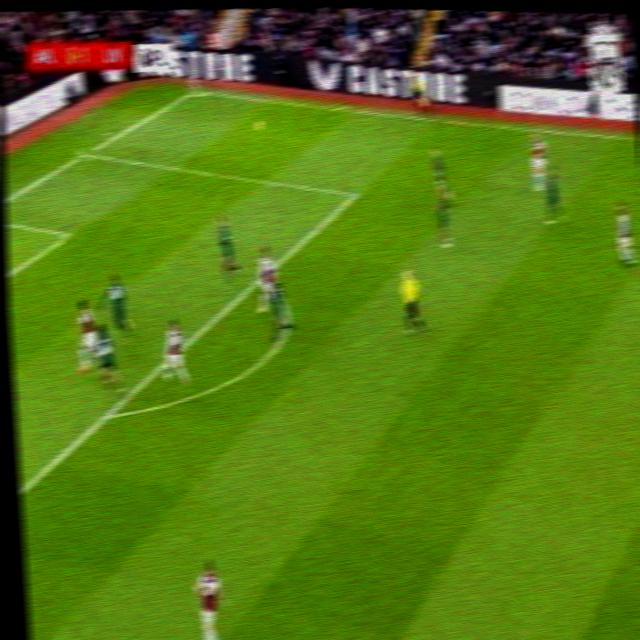bigarea_top_inner: (343, 180, 363, 207)
bigarea_top_outter: (75, 144, 94, 161)
bottom_arc_area_intersection: (97, 401, 119, 427)
corner: (186, 85, 204, 98)
smallarea_top_inner: (59, 223, 78, 244)
